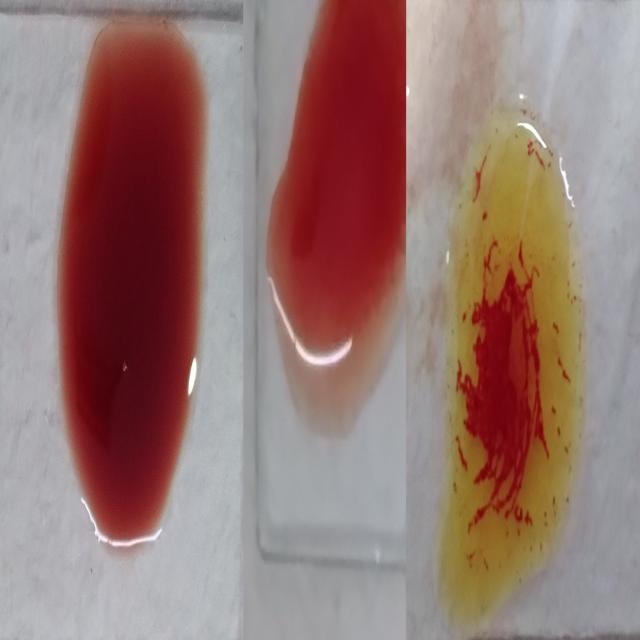B: (447, 104, 580, 604)
